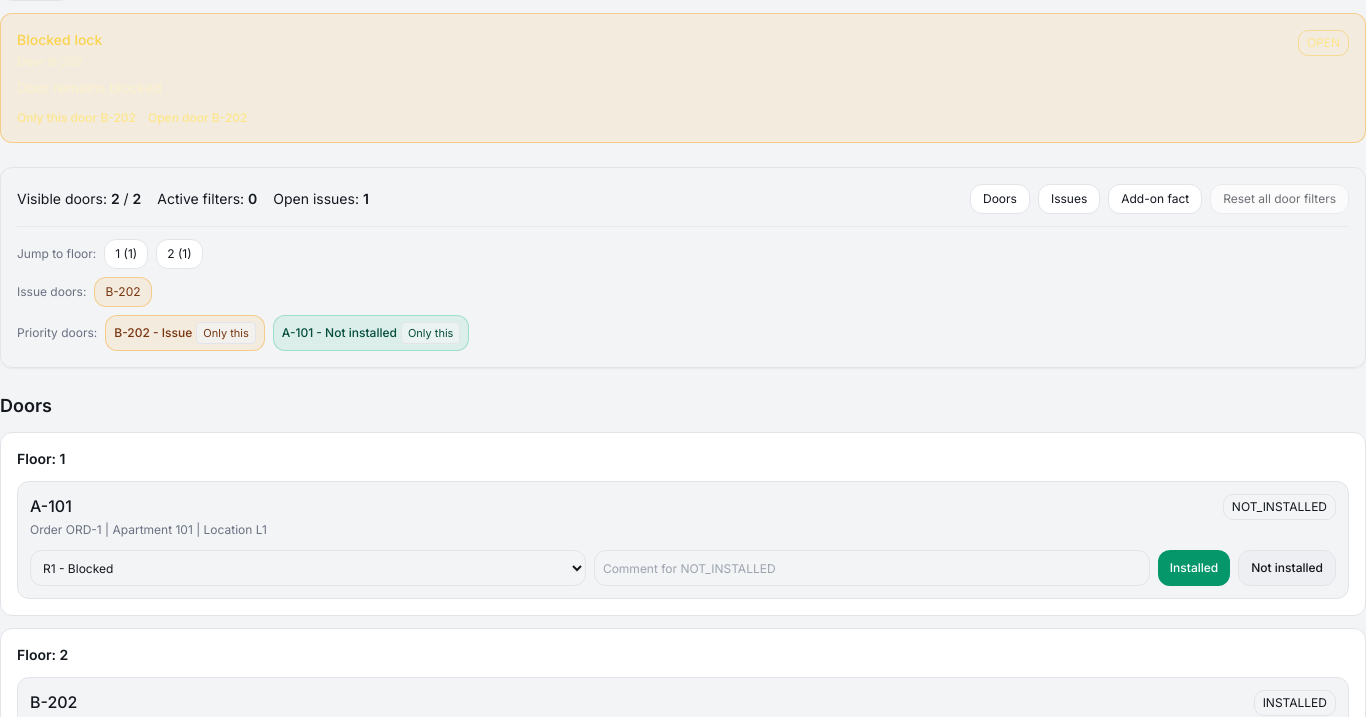
Scenario: InstallerProjectPage › filters directly to a priority door from the summary bar
This screenshot has width=1366, height=717.
(page scrolled)
Expected: the element named "Door summary bar" is shown, [0, 167, 1365, 368]
Click the button with aria-label "Only this B-202": (226, 333) [196, 322, 256, 344]
(page scrolled)
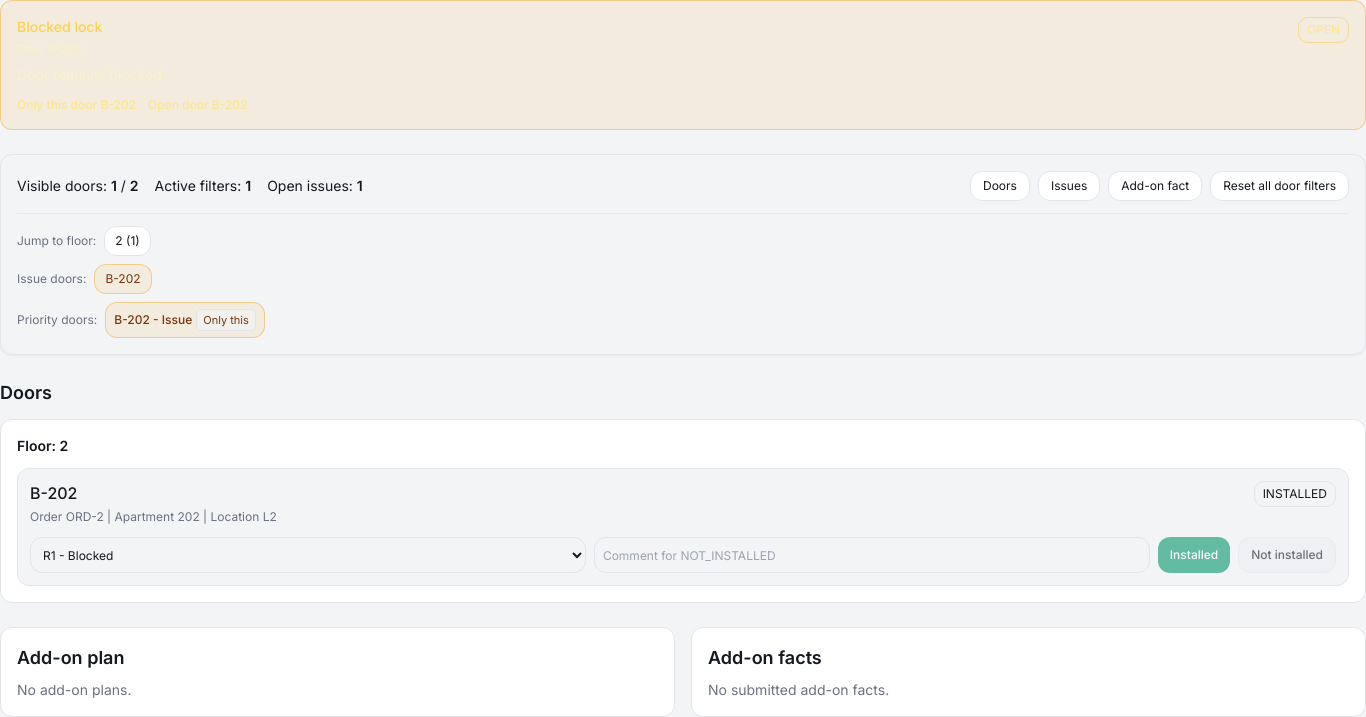
Expected: the link "B-202" is shown, [94, 264, 152, 294]
Now the element named "Door summary bar" shows "Visible doors: 1 / 2", box [0, 154, 1365, 355]
Now the link "A-101" is gone
